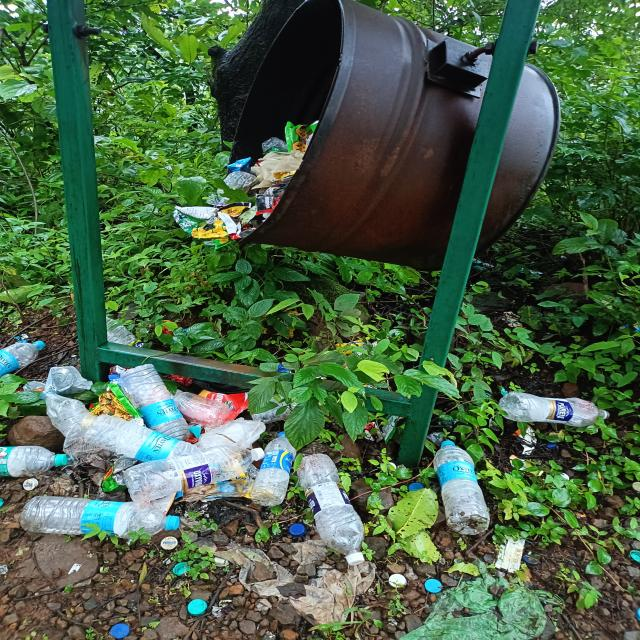garbage: (6, 336, 566, 566), (186, 117, 329, 265)
